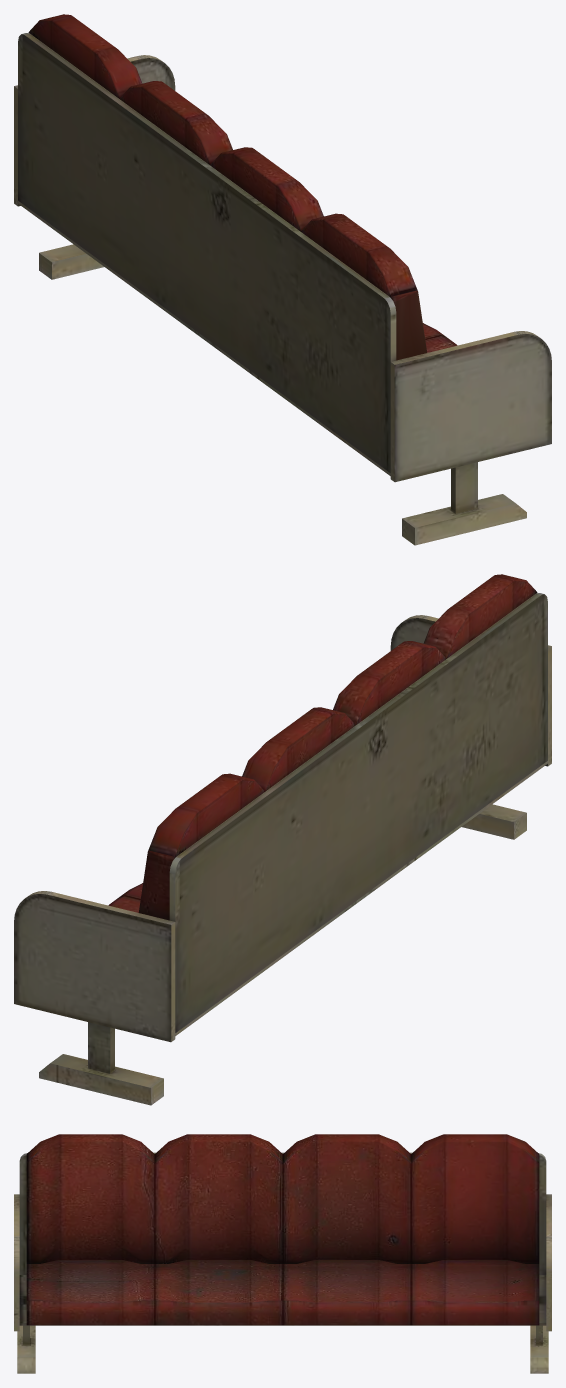
File: traincar_seats001.glb
3 renders of one model, top to bottom at view 1: azimuth 30°, elevation 25°; view 2: azimuth 150°, elevation 25°; view 3: azimuth 270°, elevation 25°, orthographic. The views are drawn at different scales.
Visible parts, largest first — view 1: 0_Traincar_seats001; view 2: 0_Traincar_seats001; view 3: 0_Traincar_seats001.
Boxes of the visible parts, box(x1,y1,x2,y2) form: 0_Traincar_seats001: box(14, 14, 551, 545); 0_Traincar_seats001: box(14, 574, 551, 1105); 0_Traincar_seats001: box(14, 1134, 551, 1373).
Size of the model in its own units: 0.7112 by 1.19 by 2.98.
Materials: 1 (1 with a texture image).
